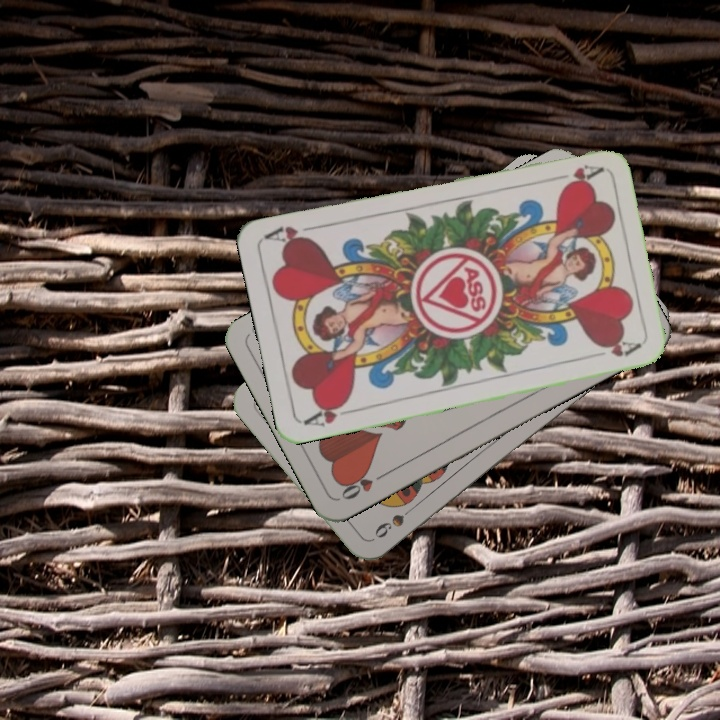HA: (300, 397, 358, 430), (545, 160, 604, 189)
HO: (337, 467, 391, 503)
S9: (370, 500, 420, 541)
